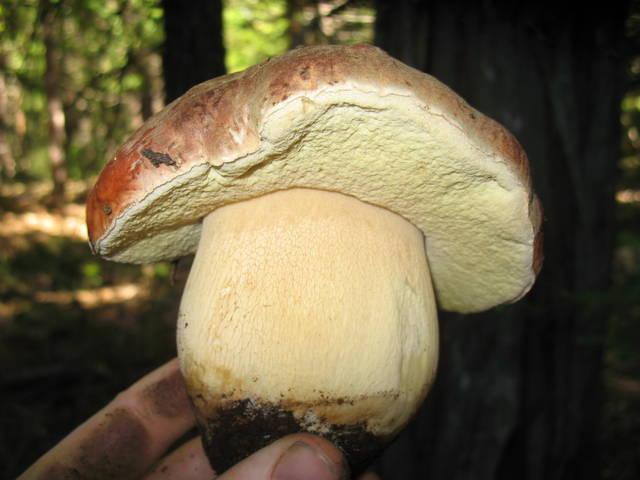edible_mushroom: (83, 40, 545, 477)
